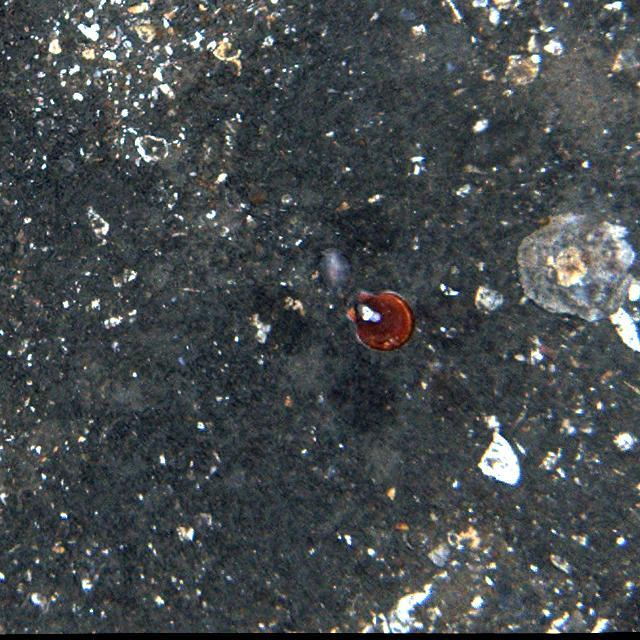scallop: (346, 285, 418, 354)
